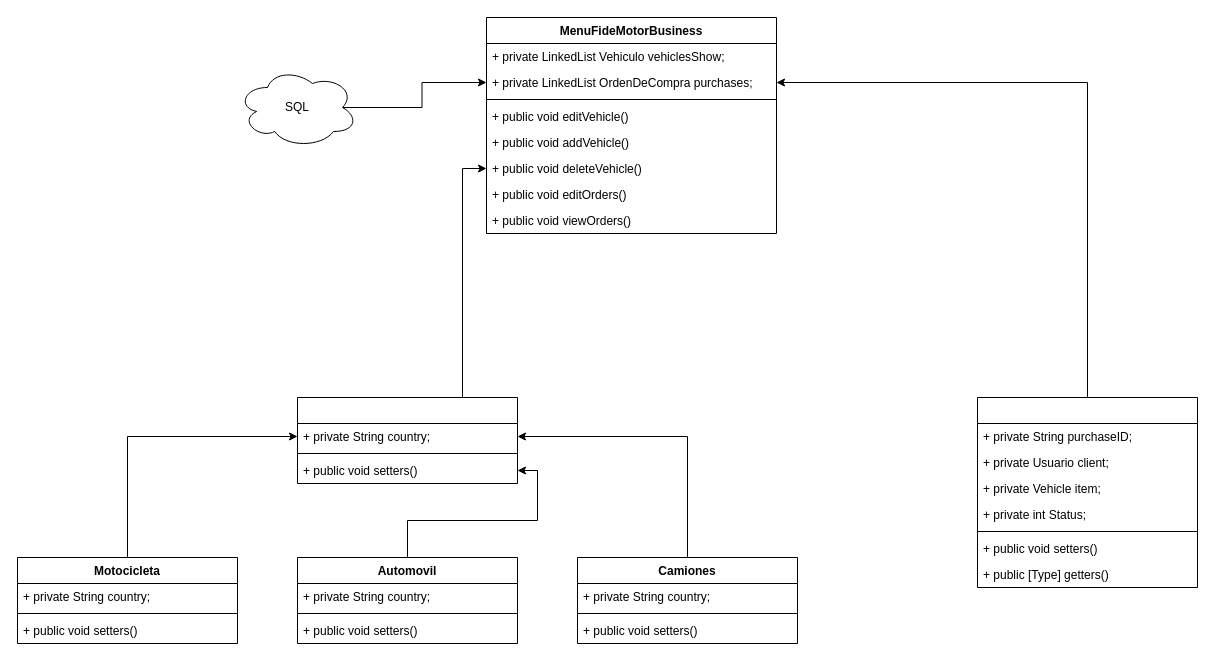
Image size: 1215x664. Some labels were removed from this diagram. The box of each missing label's shape, as (x1, y1, x2, y2) in pixels:
OrdenDeCompra: (976, 396, 1198, 588)
Vehiculo: (296, 396, 518, 484)
